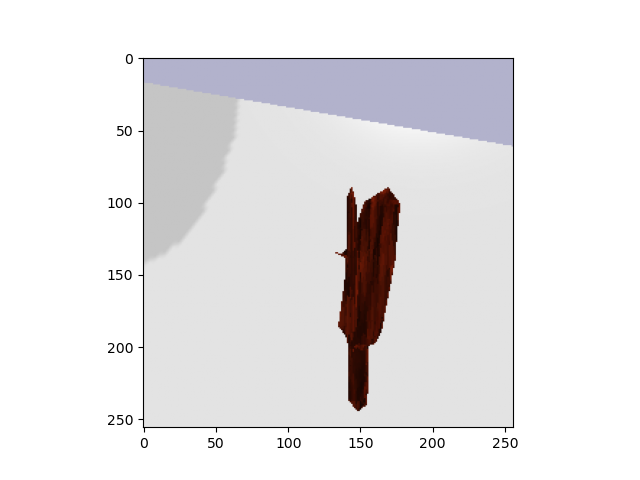v249b387_107: (332, 175, 413, 419)
